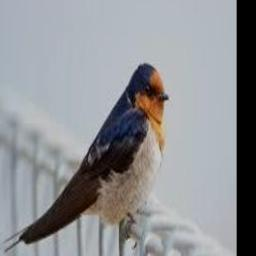Swallow: (3, 63, 169, 253)
